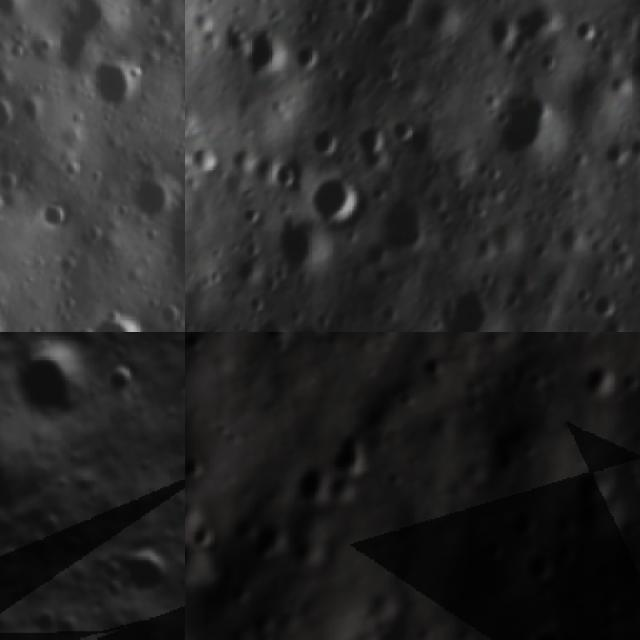crater: (0, 332, 128, 442), (99, 524, 185, 613), (496, 81, 556, 162), (78, 52, 145, 117), (114, 172, 180, 232), (12, 585, 80, 640), (382, 196, 431, 257), (102, 352, 154, 403), (239, 26, 291, 75), (311, 175, 359, 228), (282, 225, 334, 271), (440, 284, 489, 332), (25, 194, 76, 238), (290, 460, 334, 506), (328, 428, 370, 475), (249, 514, 288, 558), (522, 542, 562, 584), (88, 306, 152, 332), (376, 0, 430, 29), (505, 498, 541, 538), (352, 129, 388, 167), (584, 356, 619, 395), (486, 12, 522, 46), (0, 90, 25, 138), (515, 621, 573, 640), (236, 142, 264, 179), (296, 41, 326, 75), (189, 516, 215, 552), (272, 164, 299, 198), (193, 142, 218, 178), (572, 20, 606, 46), (185, 536, 202, 588), (576, 623, 627, 640), (481, 528, 507, 560), (377, 60, 408, 86), (253, 332, 297, 350), (389, 119, 415, 148), (185, 447, 207, 481), (172, 69, 185, 125), (316, 129, 337, 160), (287, 318, 333, 332), (243, 292, 268, 315), (602, 141, 625, 165), (591, 293, 617, 314), (238, 205, 262, 227), (627, 10, 640, 47), (210, 630, 256, 640), (255, 316, 280, 332), (350, 0, 371, 19), (598, 319, 625, 332), (574, 286, 596, 301), (223, 323, 257, 332), (378, 267, 390, 288), (629, 133, 640, 155)
